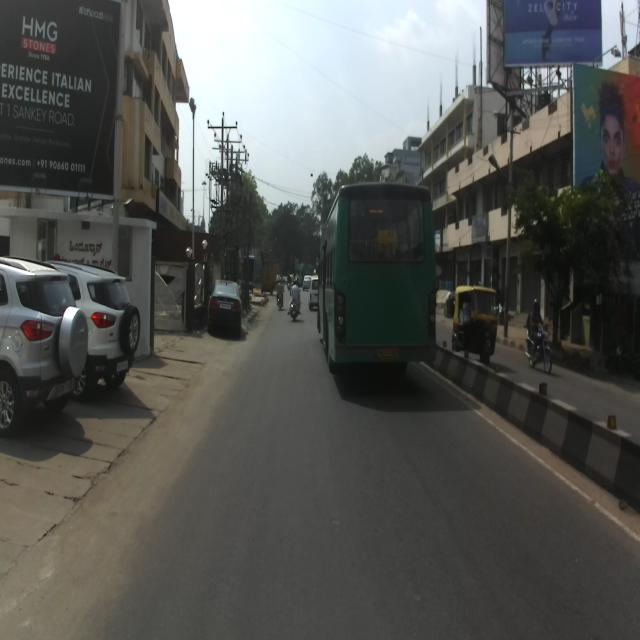bus ahead at: (320, 182, 442, 384)
car ahead at: (8, 252, 88, 440), (85, 269, 142, 397), (207, 277, 243, 328)
